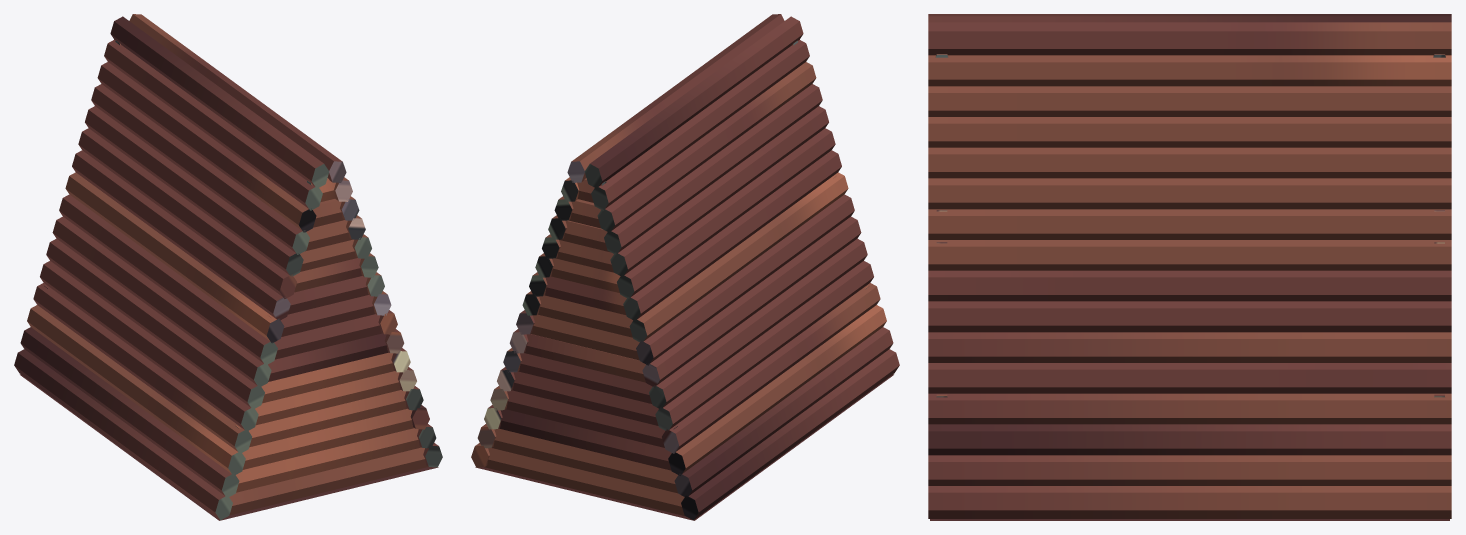
Rendered from Pokój_full_opt.fbx.
3 renders of one model, left to right at view 1: azimuth 30°, elevation 25°; view 2: azimuth 150°, elevation 25°; view 3: azimuth 270°, elevation 25°, orthographic. The views are drawn at different scales.
Visible parts, largest first — view 1: Plane; view 2: Plane; view 3: Plane.
Boxes of the visible parts, <box> form: Plane: <box>14,14,442,520</box>; Plane: <box>471,14,899,520</box>; Plane: <box>928,14,1451,520</box>.
Bounding box in the file's own units: 824 × 1150 × 1262.
1 material, 1 textured.
